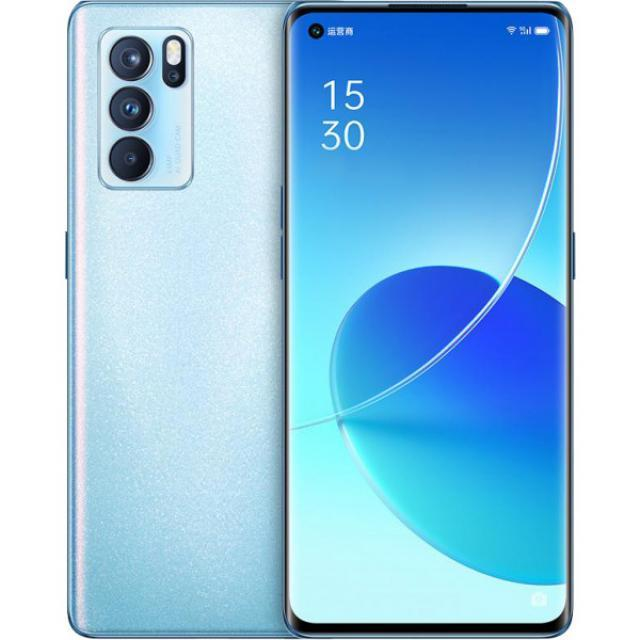Phone: (280, 0, 576, 637), (65, 4, 283, 636)
